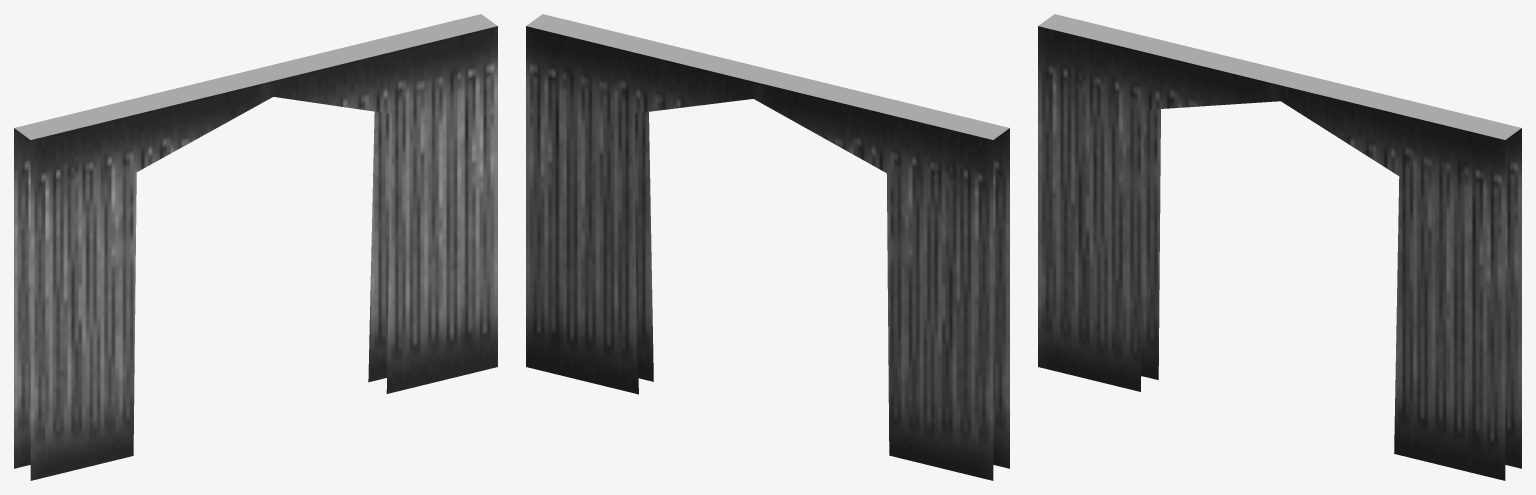
Rendered from W_I3_xx_TürGroß [Wellblech]_796.glb.
3 renders of one model, left to right at view 1: azimuth 30°, elevation 25°; view 2: azimuth 150°, elevation 25°; view 3: azimuth 330°, elevation 25°, orthographic.
Parts seen in each view (by area): view 1: pPlaneShape2, pPlaneShape3, pPlaneShape1; view 2: pPlaneShape3, pPlaneShape2, pPlaneShape1; view 3: pPlaneShape2, pPlaneShape3, pPlaneShape1.
Part boxes in pixels (x1=…): pPlaneShape2: x1=30, y1=26, x2=497, y2=480; pPlaneShape3: x1=14, y1=111, x2=391, y2=468; pPlaneShape1: x1=14, y1=14, x2=497, y2=139; pPlaneShape3: x1=526, y1=26, x2=993, y2=480; pPlaneShape2: x1=632, y1=112, x2=1009, y2=468; pPlaneShape1: x1=526, y1=14, x2=1009, y2=139; pPlaneShape2: x1=1038, y1=26, x2=1505, y2=480; pPlaneShape3: x1=1141, y1=109, x2=1521, y2=468; pPlaneShape1: x1=1038, y1=14, x2=1521, y2=139.
Bounding box in the file's own units: 0.5 × 0.3486 × 0.0308.
3 materials, 2 textured.
